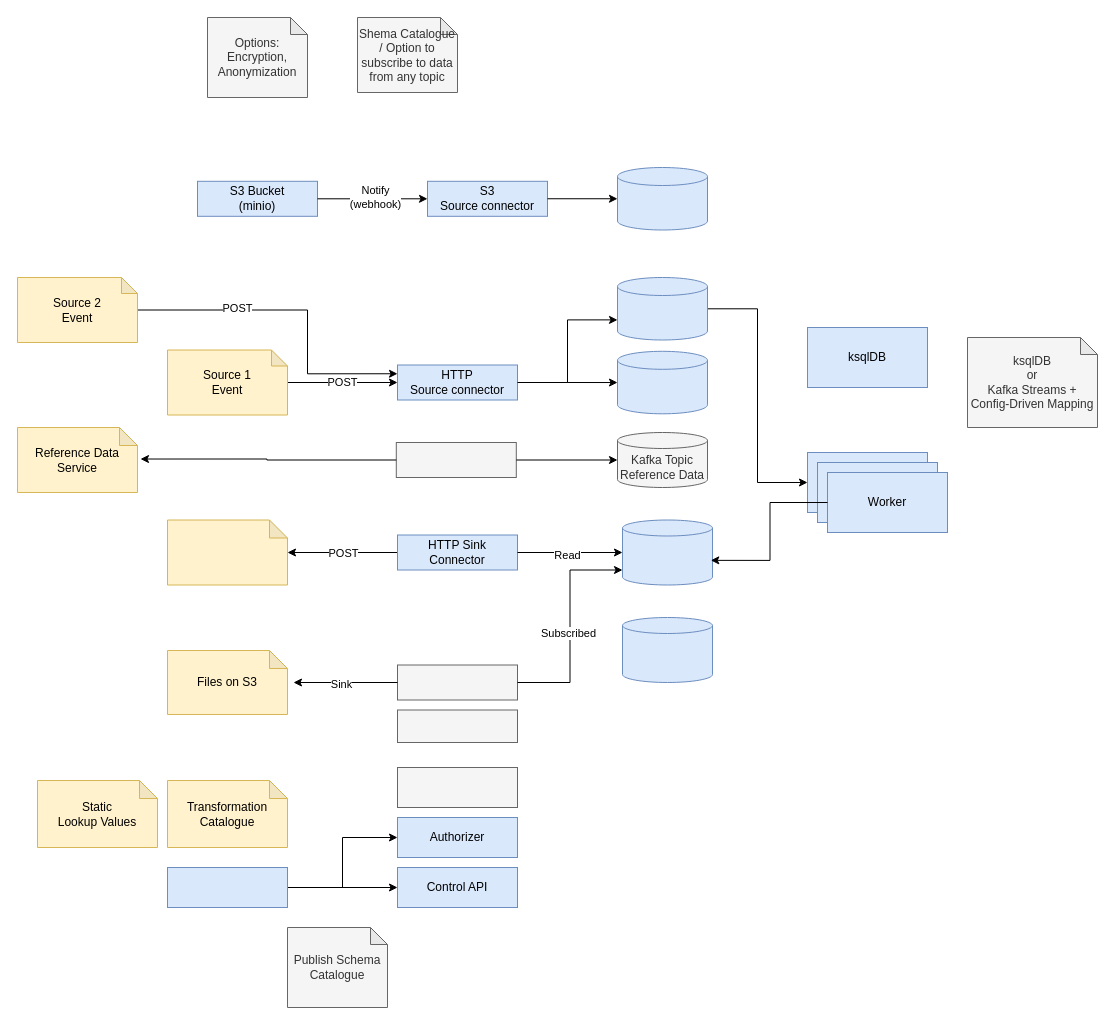
Some shapes in this 1115 by 1025 pixel diagram are drawn without their labels. Here are the shapes that lost their labels. From the top down, the centre of each, then its label:
At (662,198): "Kafka Topic Source 3".
At (662,308): "Kafka Topic Source 2".
At (662,382): "Kafka Topic Source 1".
At (455,460): "Webhook triggers reference ingestion".
At (227,552): "Target REST API Event".
At (667,552): "Kafka Topic Destination".
At (667,649): "Kafka Topic Mapping Config".
At (457,682): "S3 Sink Connector".
At (457,725): "SNS Sink Connector".
At (457,787): "Vault".
At (227,887): "UI".
